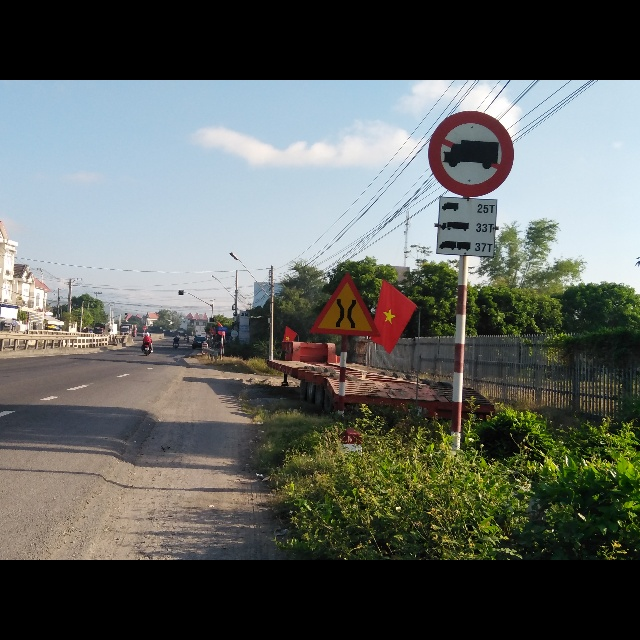Cấm xe tải: (425, 115, 516, 202)
Cầu hẹp: (311, 269, 383, 336)
